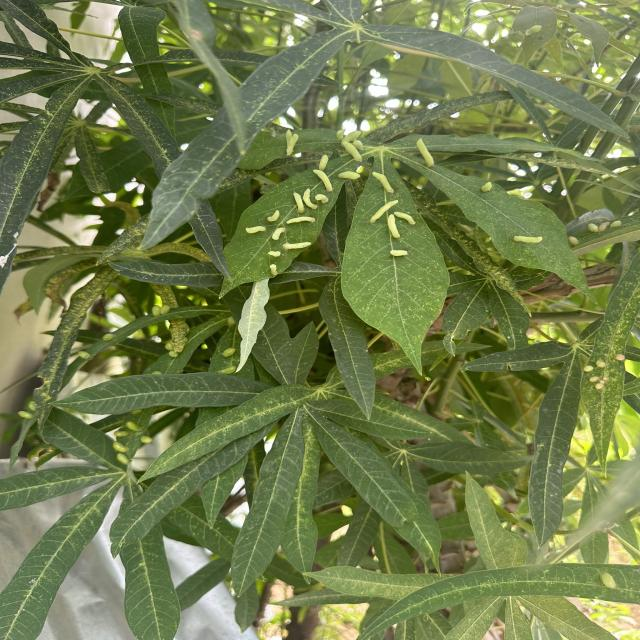Mosca: (242, 204, 323, 293), (364, 196, 425, 269), (283, 152, 340, 220), (321, 118, 376, 184), (108, 416, 165, 462), (583, 338, 625, 400), (563, 216, 628, 251), (476, 175, 537, 205), (16, 390, 64, 428), (508, 225, 561, 252), (411, 124, 440, 173), (590, 558, 623, 599), (219, 343, 245, 388), (279, 118, 302, 163), (94, 318, 120, 349), (70, 341, 97, 370), (140, 298, 170, 324), (157, 335, 178, 362)
